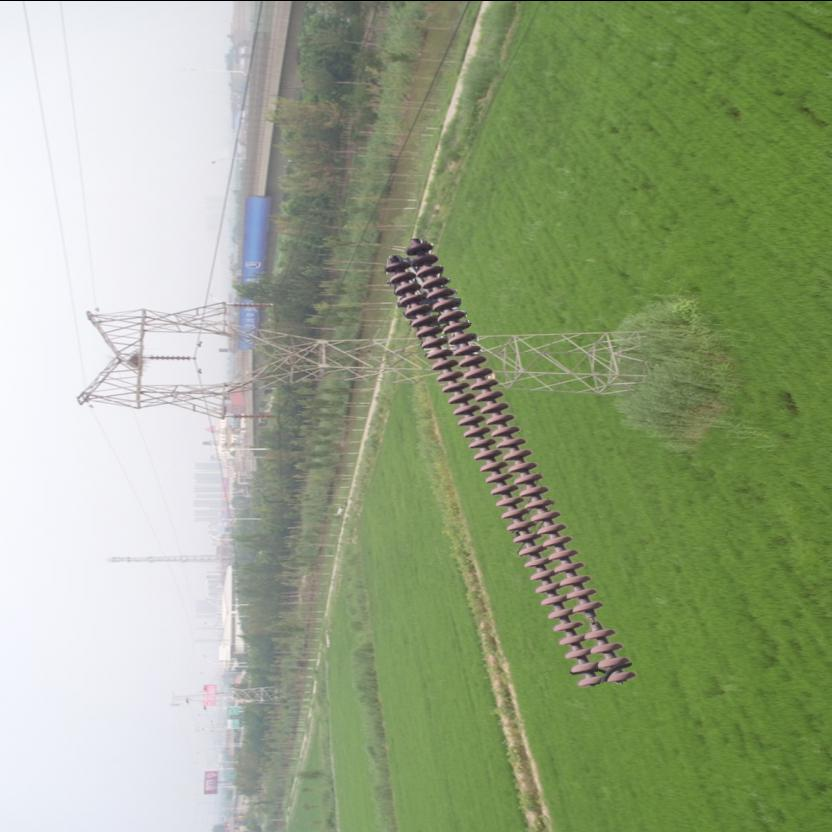defect: (566, 596, 616, 642)
